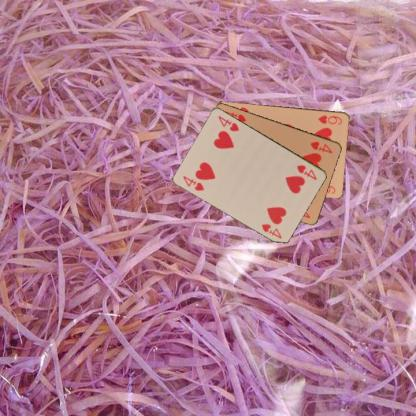4h: (180, 173, 206, 192), (294, 162, 318, 181), (307, 139, 334, 154)
6h: (316, 113, 343, 125)
